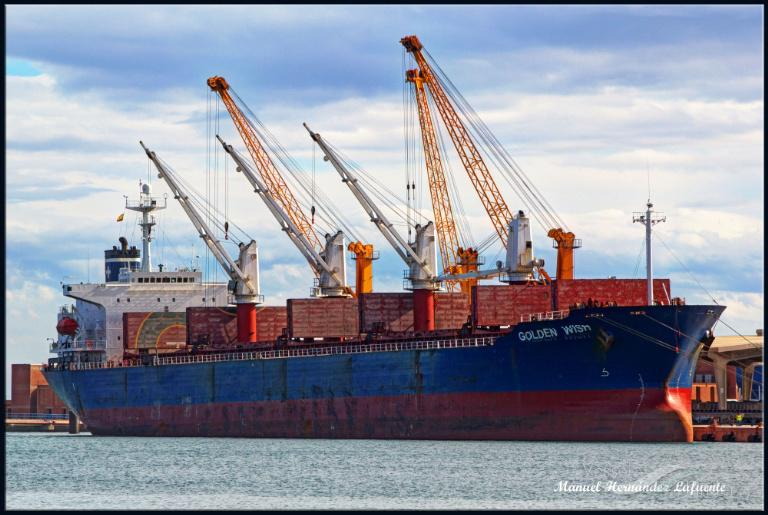OCR: (508, 326, 596, 346)
